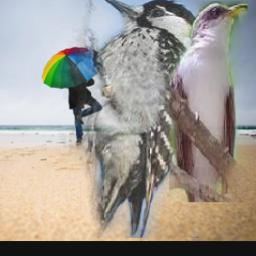Cuckoo: (170, 1, 249, 202)
Woodpecker: (56, 0, 199, 238)
